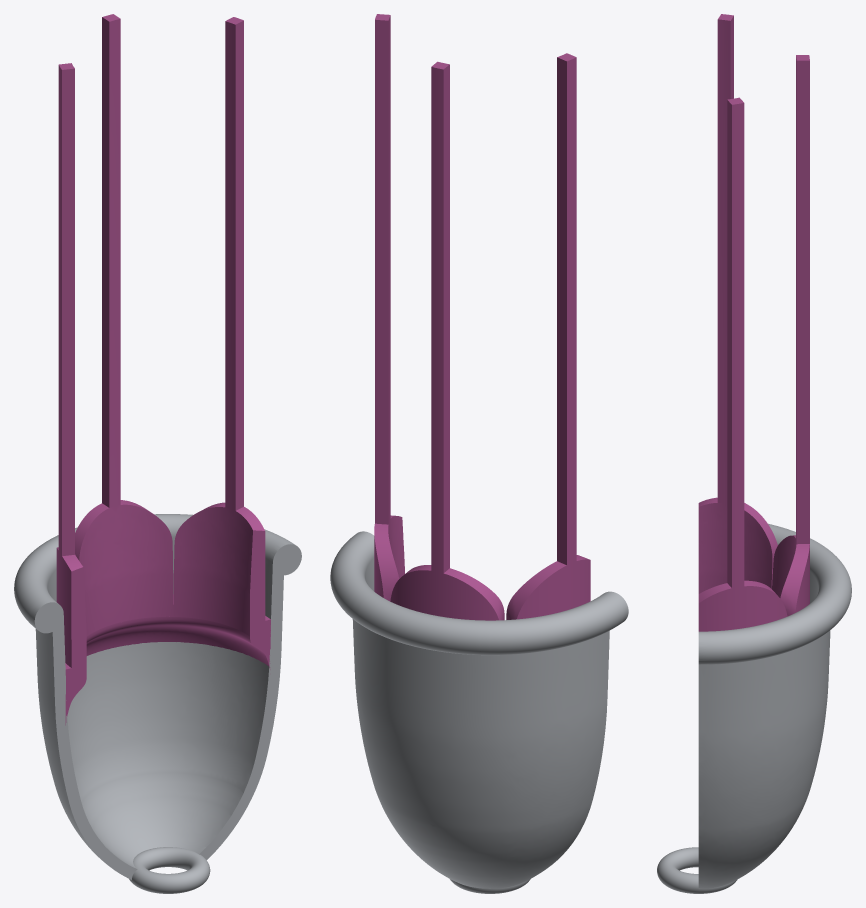
The model's file is flower-low-section.glb.
3 views of the same model, side by side, from view 1: azimuth 30°, elevation 25°; view 2: azimuth 150°, elevation 25°; view 3: azimuth 270°, elevation 25° (orthographic). The views are drawn at different scales.
Visible parts, largest first — view 1: flower-cup-withrim-part-5, flower-cup-withrim-part-3, flower-cup-withrim-part-4, flower-cup-withrim-part-0, flower-cup-withrim-part-2; view 2: flower-cup-withrim-part-3, flower-cup-withrim-part-5; view 3: flower-cup-withrim-part-3, flower-cup-withrim-part-5, flower-cup-withrim-part-0.
Part boxes in pixels (bbox=[...]): flower-cup-withrim-part-5: bbox=[56, 14, 270, 681]; flower-cup-withrim-part-3: bbox=[14, 514, 301, 879]; flower-cup-withrim-part-4: bbox=[65, 616, 270, 725]; flower-cup-withrim-part-0: bbox=[132, 854, 210, 893]; flower-cup-withrim-part-2: bbox=[129, 847, 197, 884]; flower-cup-withrim-part-3: bbox=[330, 531, 628, 888]; flower-cup-withrim-part-5: bbox=[374, 14, 590, 620]; flower-cup-withrim-part-3: bbox=[698, 523, 851, 888]; flower-cup-withrim-part-5: bbox=[698, 14, 809, 631]; flower-cup-withrim-part-0: bbox=[657, 847, 698, 893].
Size of the model in its own units: 0.046 by 0.1356 by 0.0292.
